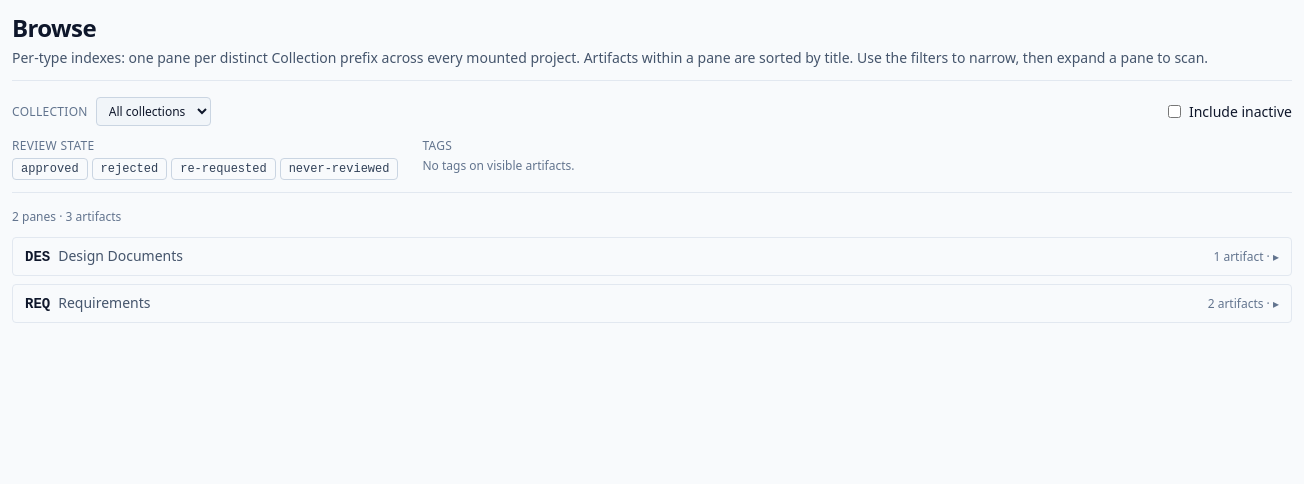
Test case: BrowsePage › renders one collapsible pane per Collection prefix with the correct headline
This screenshot has width=1304, height=484.
expect the element with test id "browse-pane-DES" is shown: met, box [12,237,1292,276]
Click the button "REQ Requirements 2 artifacts · ▸": [104, 302] box [13,285,1291,322]
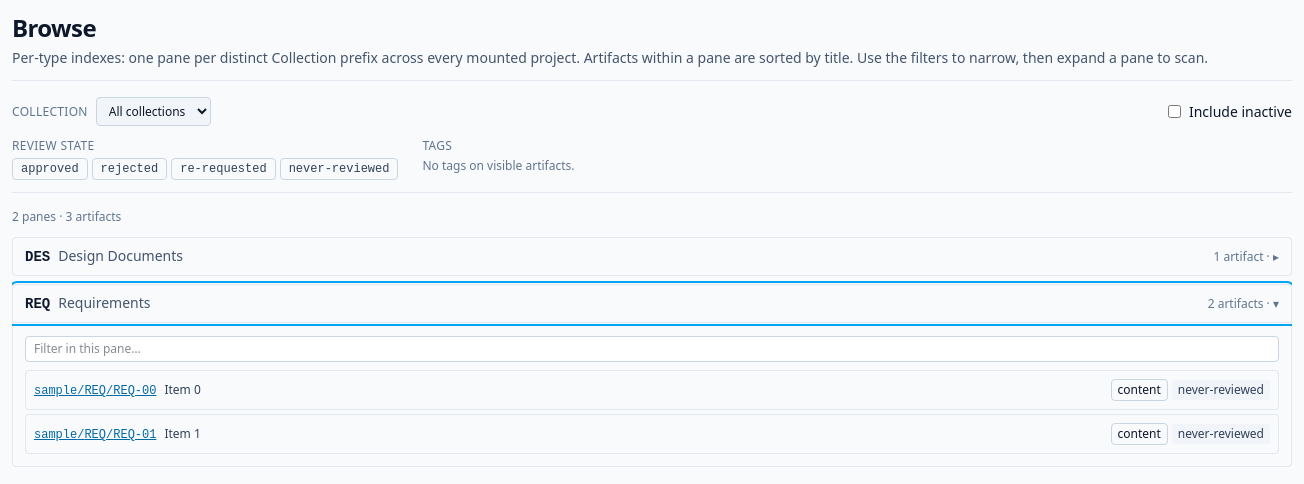
expect the list item with test id "browse-row-REQ-00" is shown: met, box [25,370,1279,410]
expect the list item with test id "browse-row-REQ-01" is shown: met, box [25,414,1279,454]
